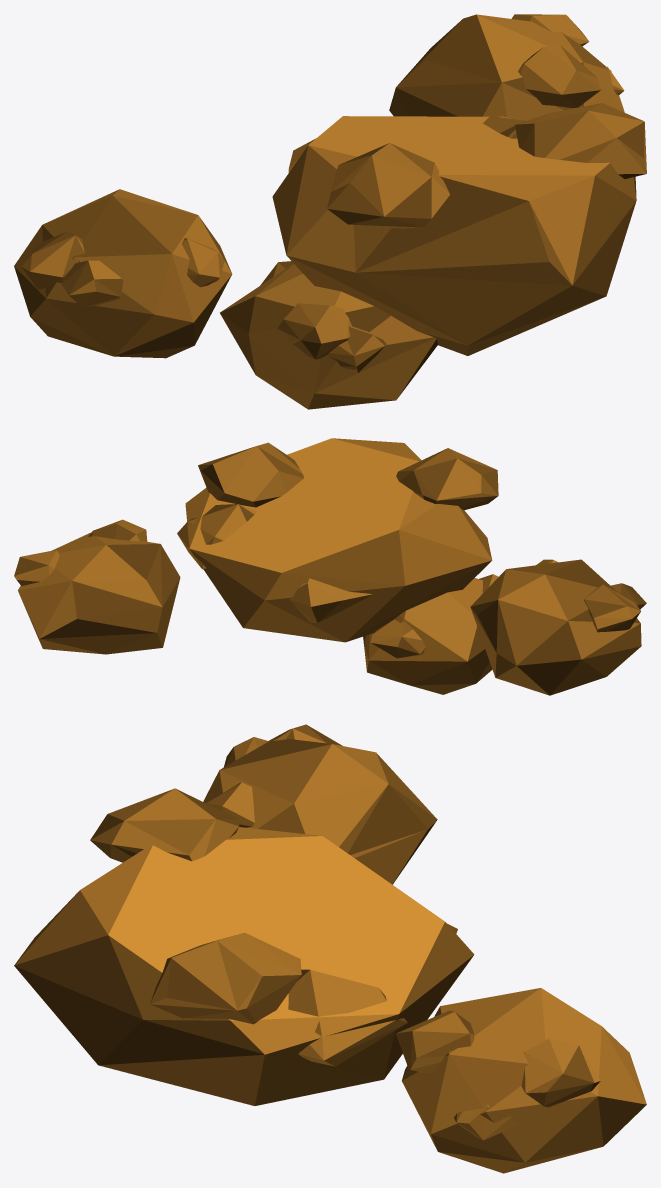
The model's file is Leaves_A.glb.
3 renders of one model, top to bottom at view 1: azimuth 30°, elevation 25°; view 2: azimuth 150°, elevation 25°; view 3: azimuth 270°, elevation 25°, orthographic. The views are drawn at different scales.
Parts seen in each view (by area): view 1: Leaves; view 2: Leaves; view 3: Leaves.
Boxes of the visible parts, x1,y1,x2,y2 form: Leaves: (14, 14, 646, 409); Leaves: (14, 438, 646, 695); Leaves: (14, 724, 646, 1173).
Size of the model in its own units: 31.64 by 12.21 by 24.15.
